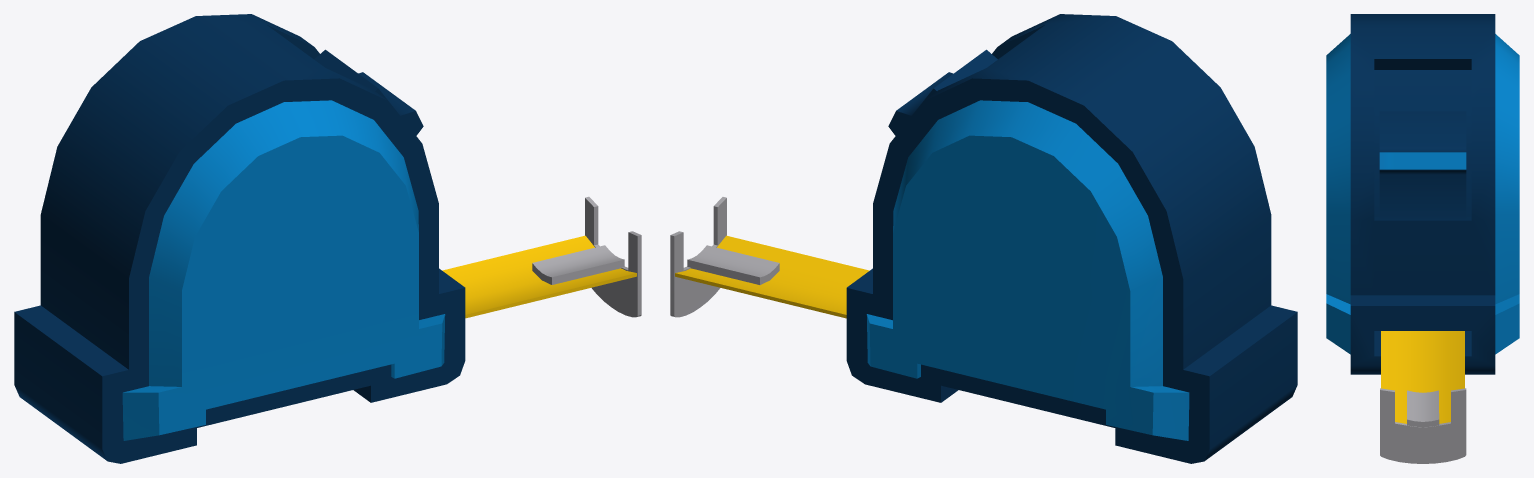
The model's file is Measuring_tape.fbx.
3 renders of one model, left to right at view 1: azimuth 30°, elevation 25°; view 2: azimuth 150°, elevation 25°; view 3: azimuth 270°, elevation 25°, orthographic. The views are drawn at different scales.
Visible parts, largest first — view 1: Measuring_tape; view 2: Measuring_tape; view 3: Measuring_tape.
Part boxes in pixels (x1,y1,x2,y2): Measuring_tape: (14,14,641,463); Measuring_tape: (670,14,1297,463); Measuring_tape: (1326,14,1519,463).
Bounding box in the file's own units: 27.68 × 10.16 × 16.59.
